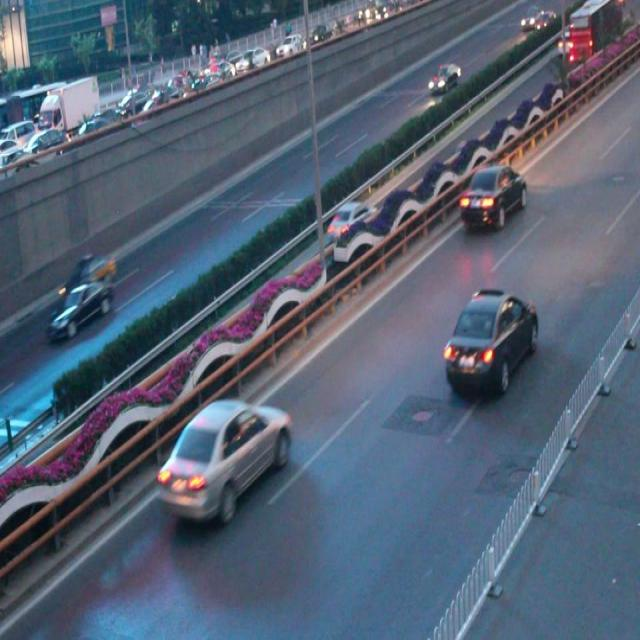car: (158, 396, 292, 520), (444, 289, 537, 392), (457, 162, 525, 231), (51, 284, 113, 338), (326, 200, 373, 246), (67, 253, 116, 286), (426, 63, 461, 96)
